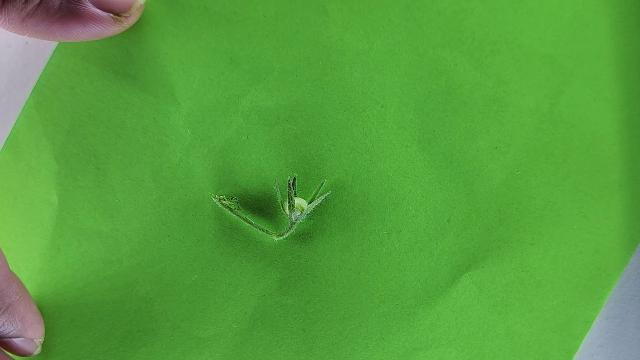Fruit Bud: (275, 173, 329, 230)
